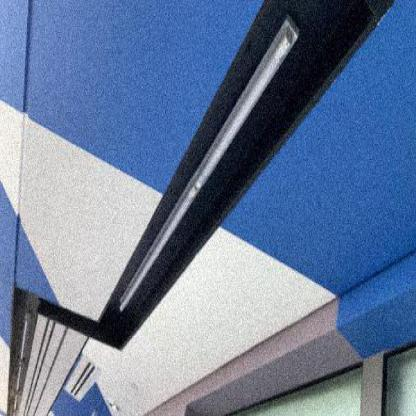light_off: (113, 13, 307, 329)
